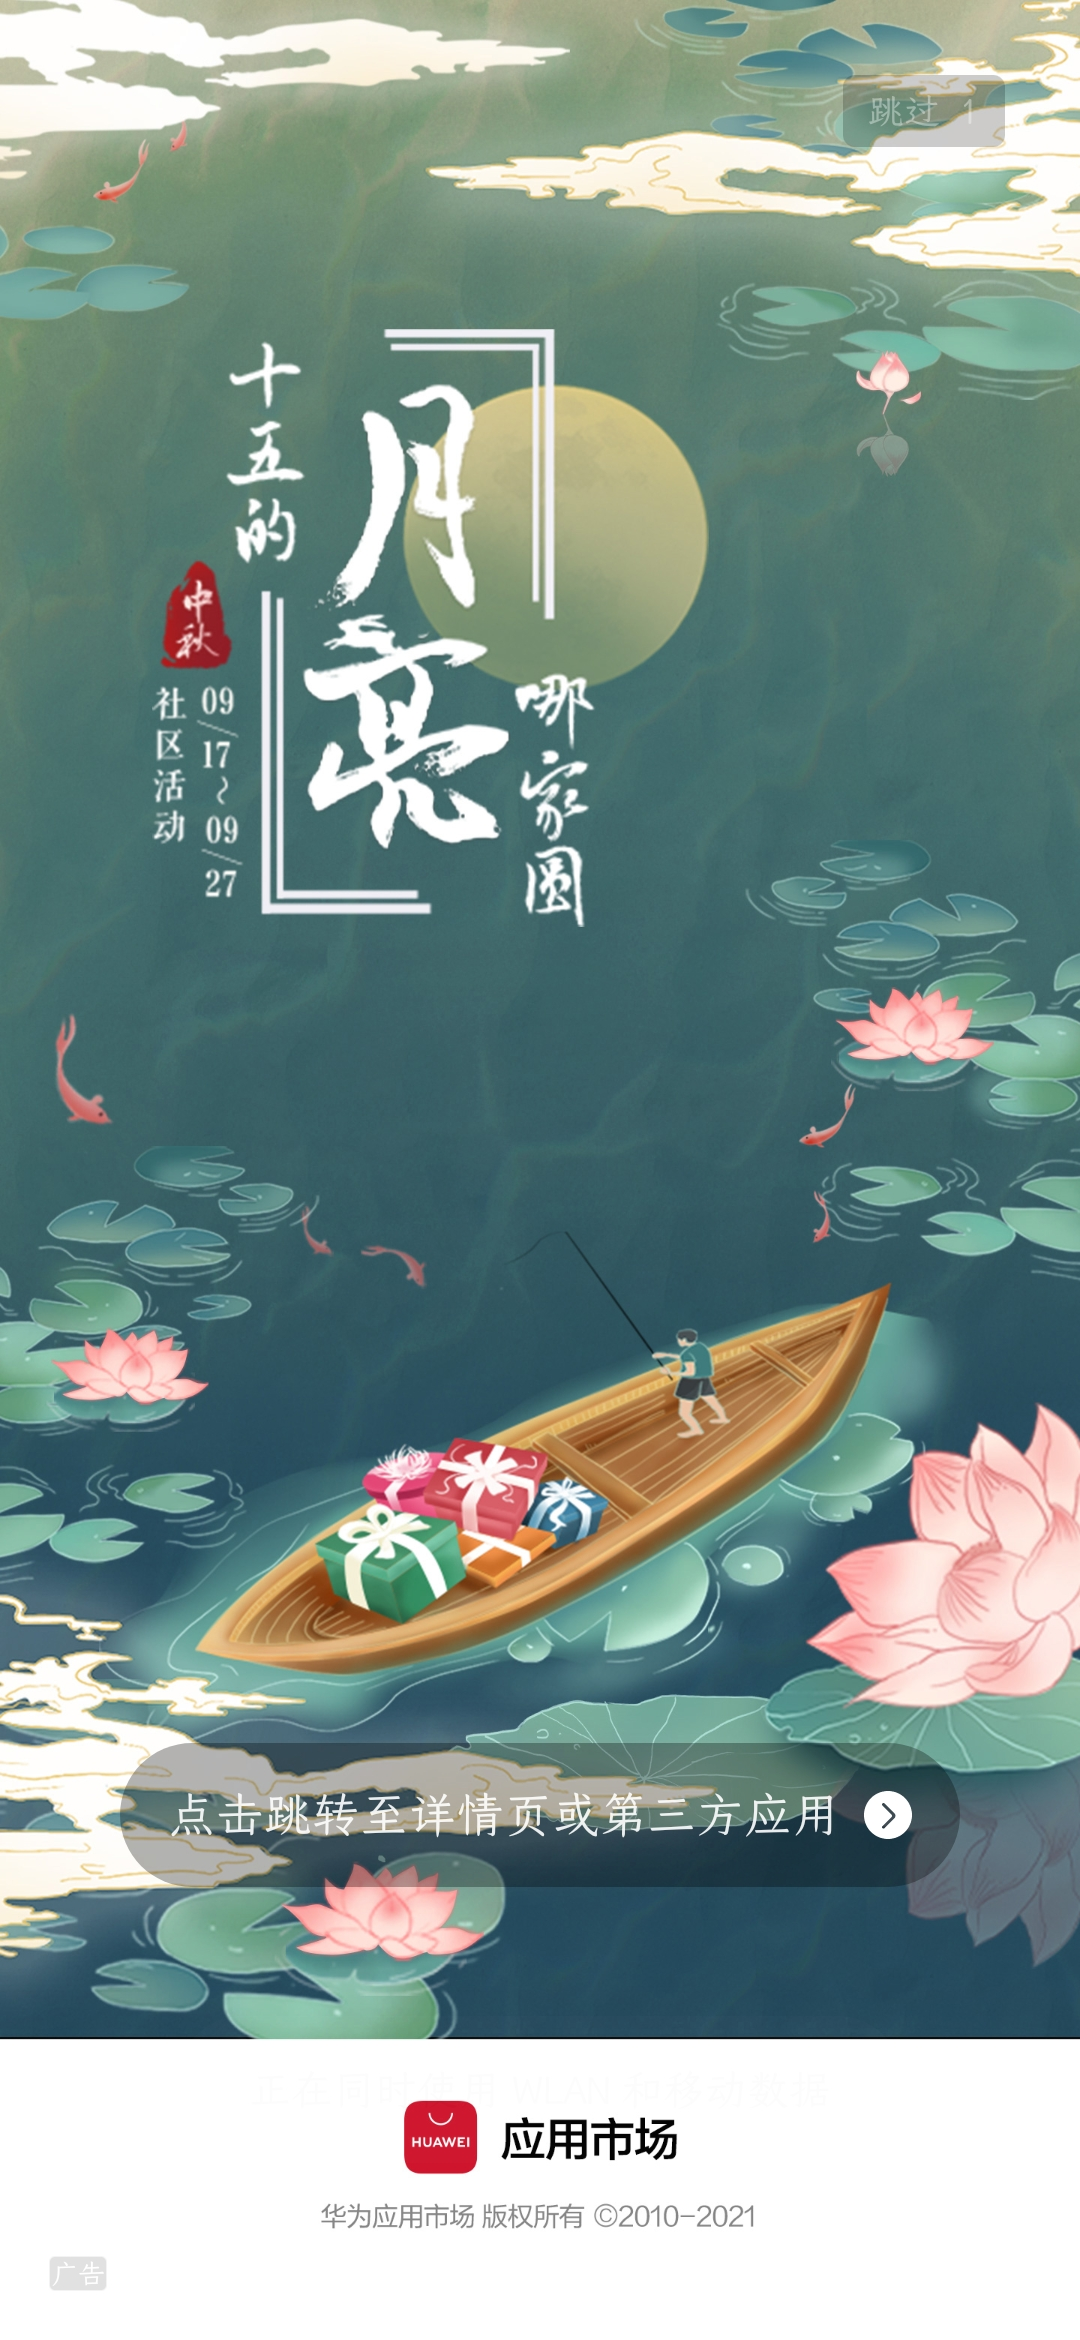skip: (844, 84, 1011, 137)
